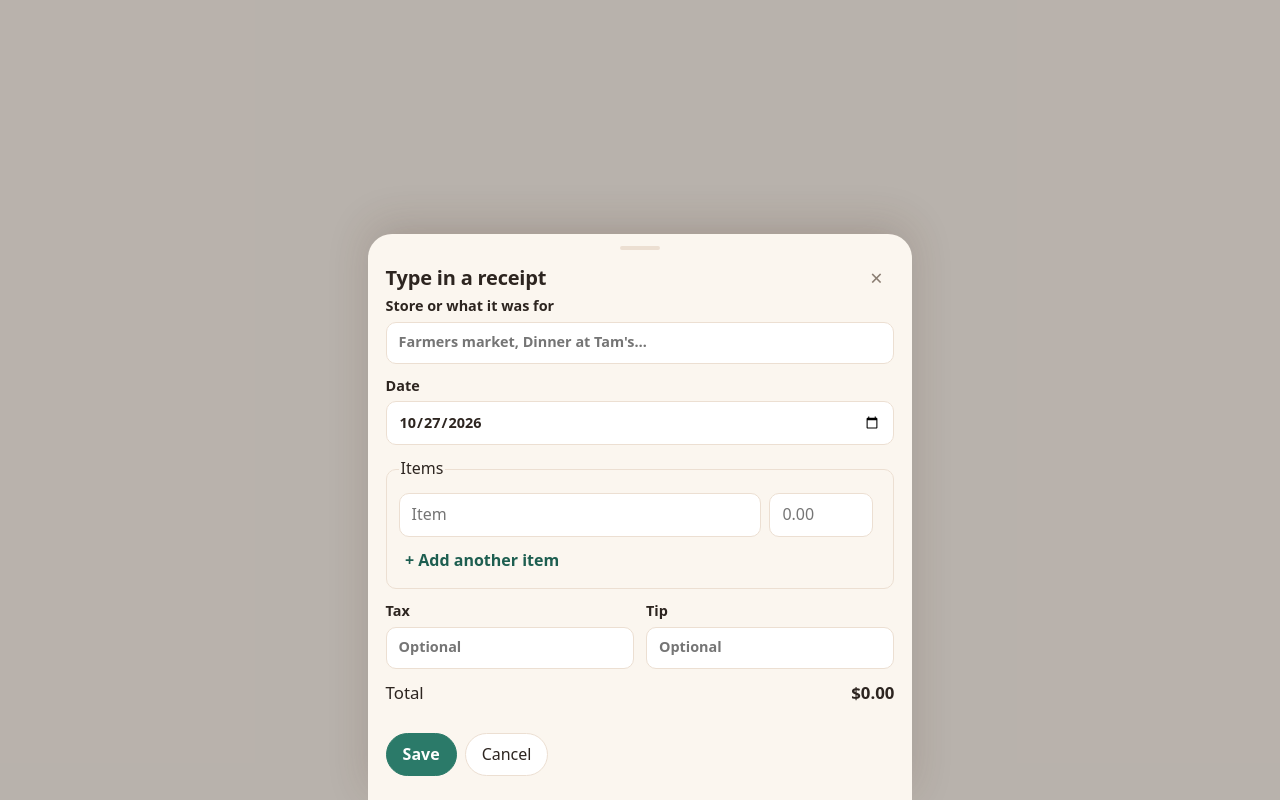
TypeBill › says what's missing instead of saving
The image size is (1280, 800).
Type "Market" into the field labelled "Store or what it was for" at [640, 343], box [386,322,894,364]
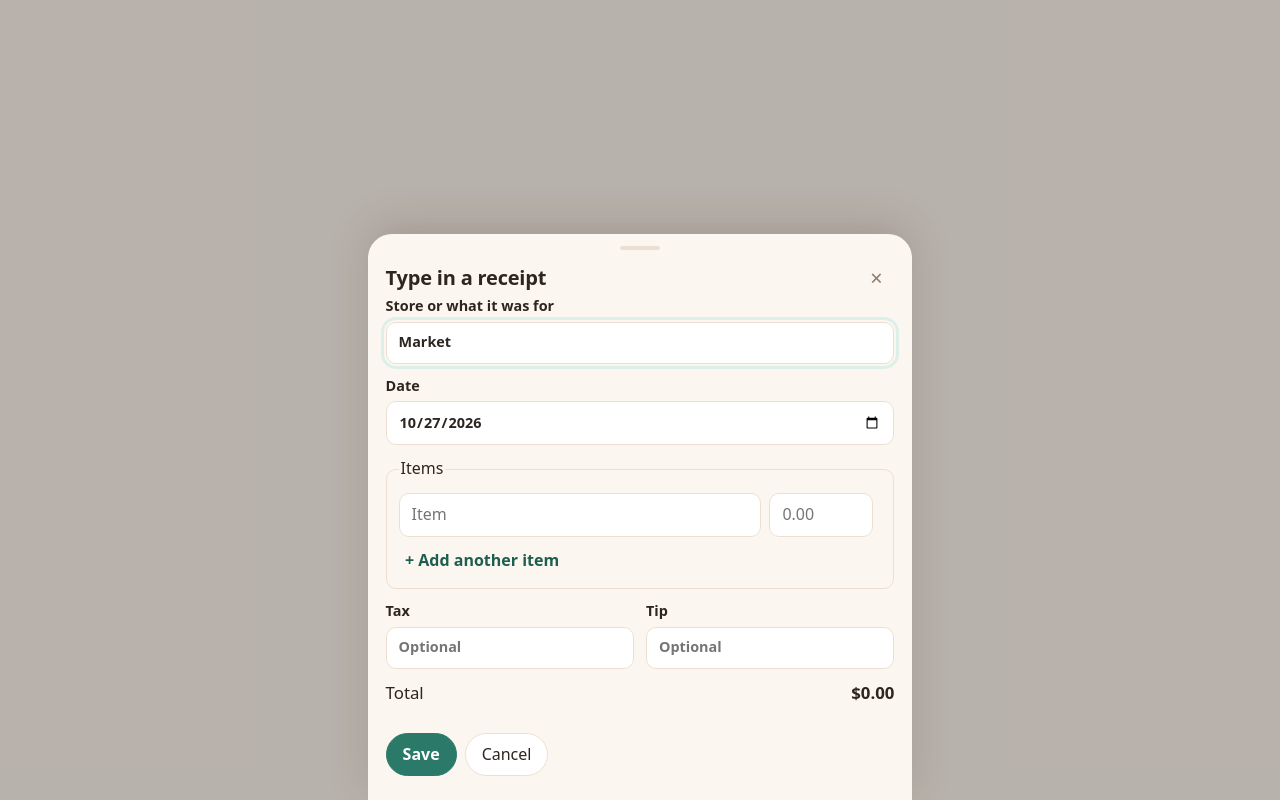
Type "Peaches" into the field named "Item 1" at [580, 515], box [399,493,761,537]
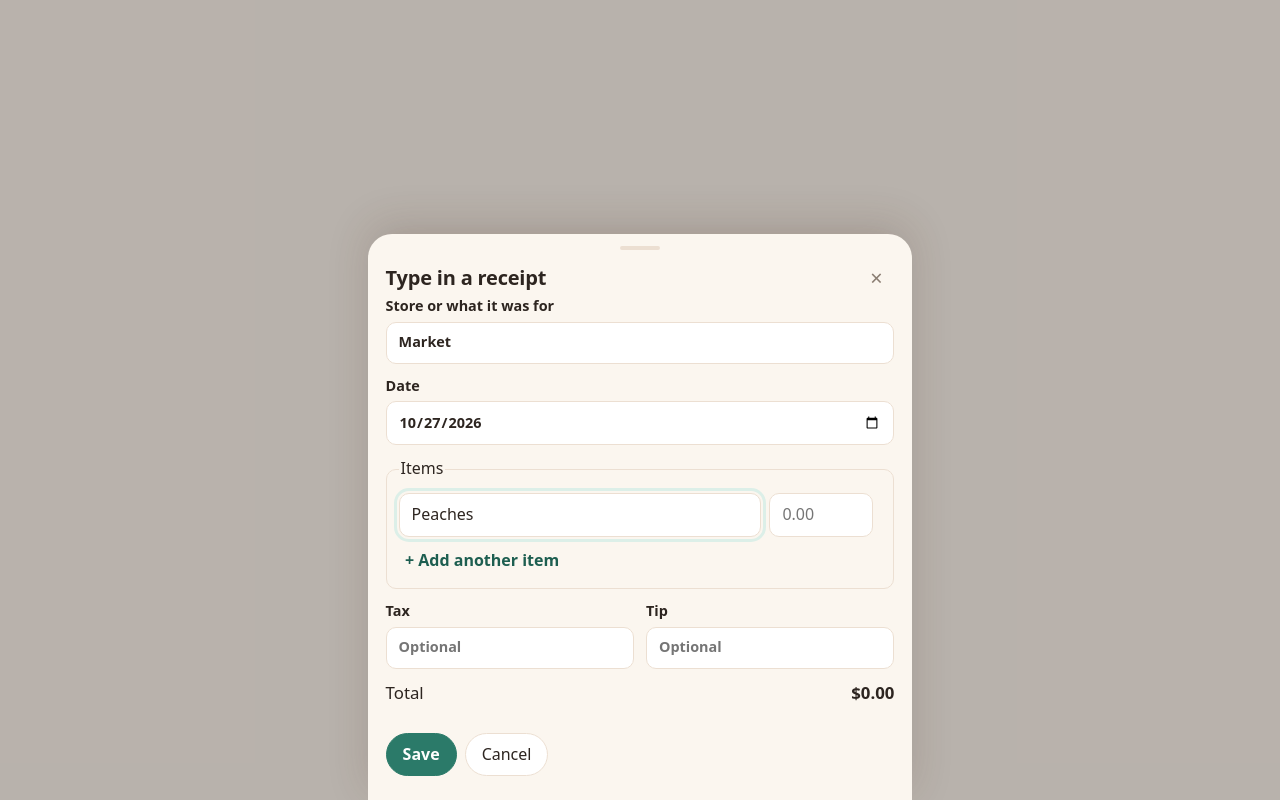
Click the button "Save" at [421, 755], box [386,733,457,776]
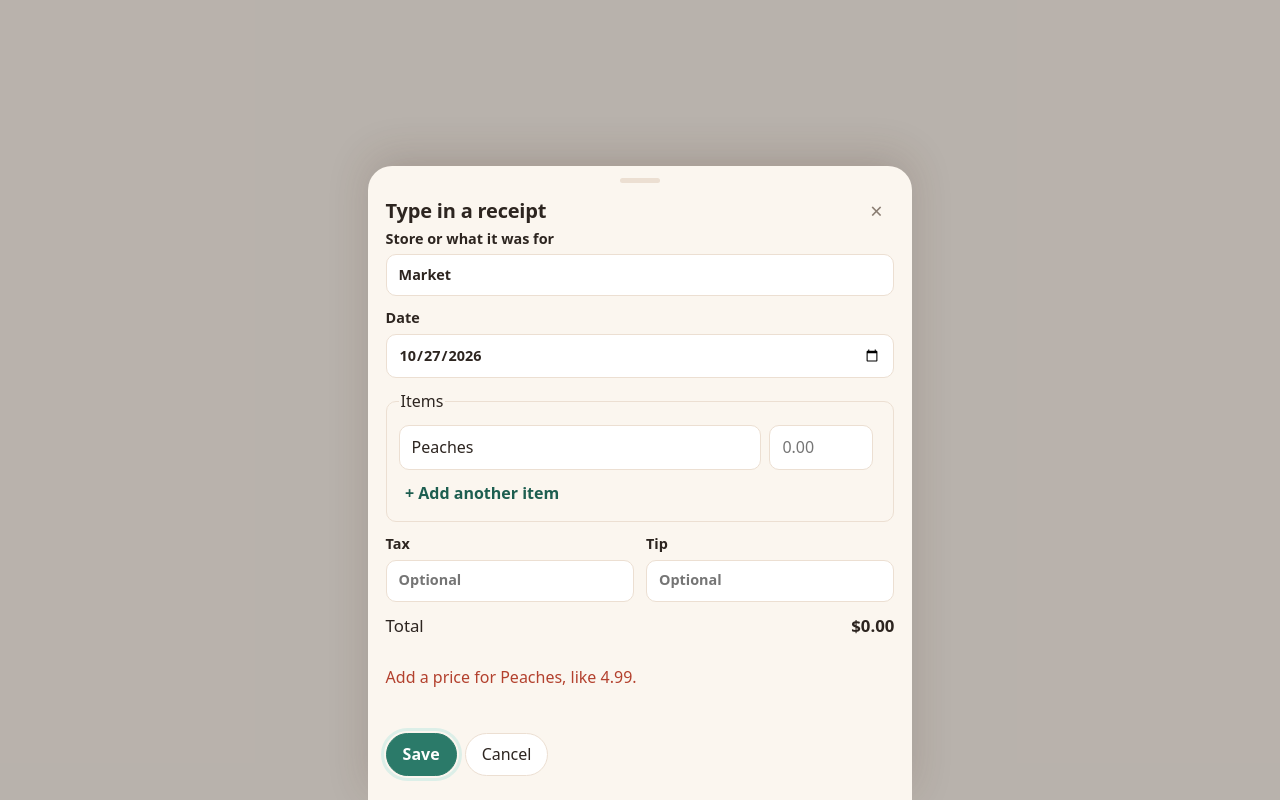
Check: the message shows "price", box [386,666,637,688]
